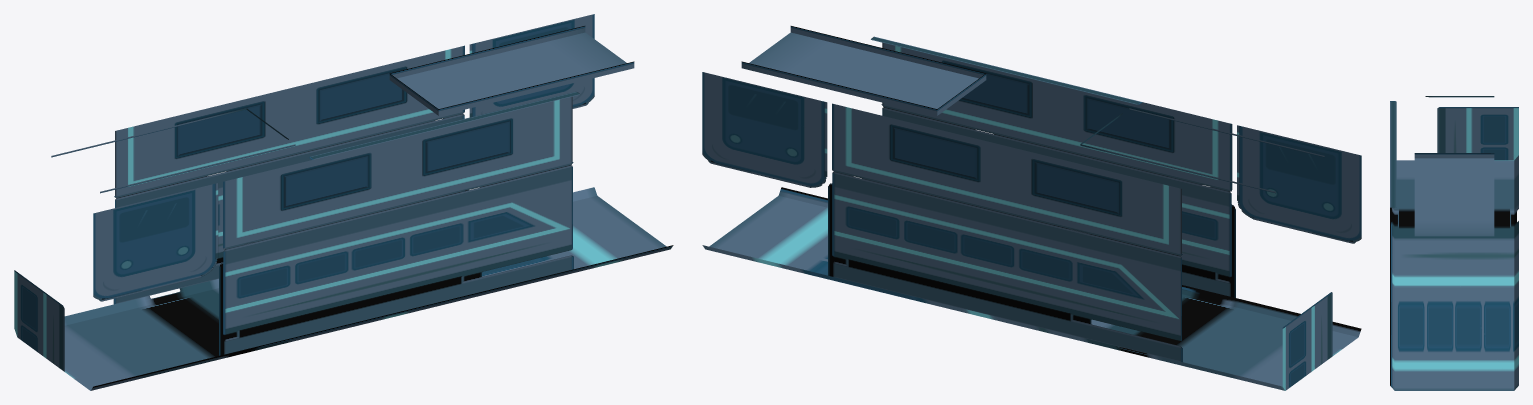
File: train 01.fbx
The picture shows the model from 3 angles, left to right: view 1: azimuth 30°, elevation 25°; view 2: azimuth 150°, elevation 25°; view 3: azimuth 270°, elevation 25°; orthographic projection. The views are drawn at different scales.
Visible parts, largest first — view 1: Cube.001; view 2: Cube.001; view 3: Cube.001.
Part boxes in pixels (x1,y1,x2,y2): Cube.001: [14, 14, 673, 390]; Cube.001: [702, 26, 1361, 390]; Cube.001: [1390, 96, 1518, 390].
Bounding box in the file's own units: 534 × 163 × 126.
